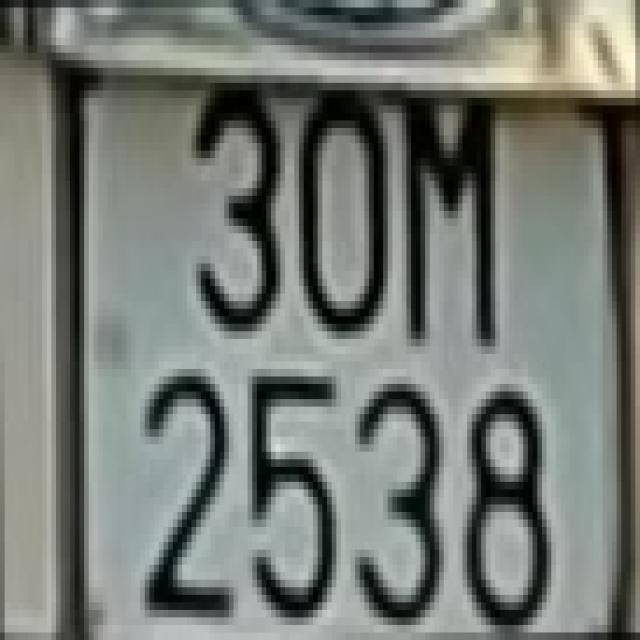0: (297, 79, 390, 335)
2: (140, 365, 234, 614)
3: (189, 72, 283, 335), (355, 376, 444, 625)
5: (248, 365, 336, 621)
8: (467, 384, 551, 625)
M: (400, 98, 502, 346)
